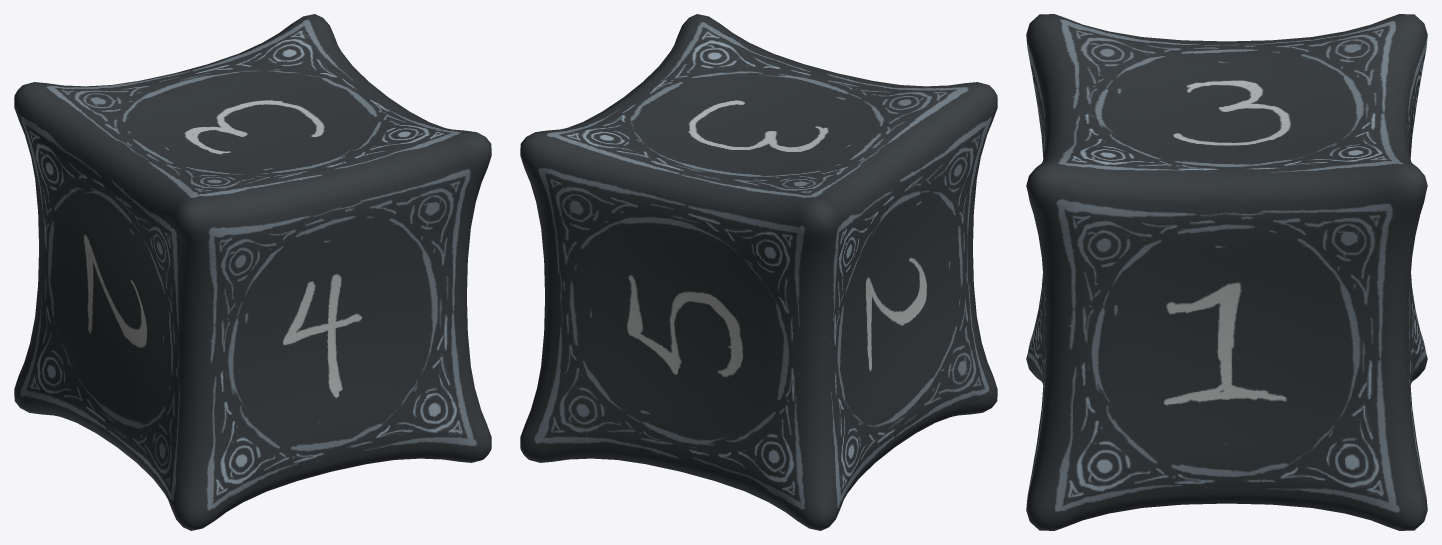
The model's file is ghost_dice.fbx.
3 renders of one model, left to right at view 1: azimuth 30°, elevation 25°; view 2: azimuth 150°, elevation 25°; view 3: azimuth 270°, elevation 25°, orthographic. The views are drawn at different scales.
Parts seen in each view (by area): view 1: ghost; view 2: ghost; view 3: ghost.
Boxes of the visible parts, x1,y1,x2,y2 form: ghost: (14, 14, 491, 530); ghost: (520, 14, 997, 530); ghost: (1026, 14, 1427, 530).
Size of the model in its own units: 1.93 by 1.93 by 1.93.
Materials: 1 (1 with a texture image).
